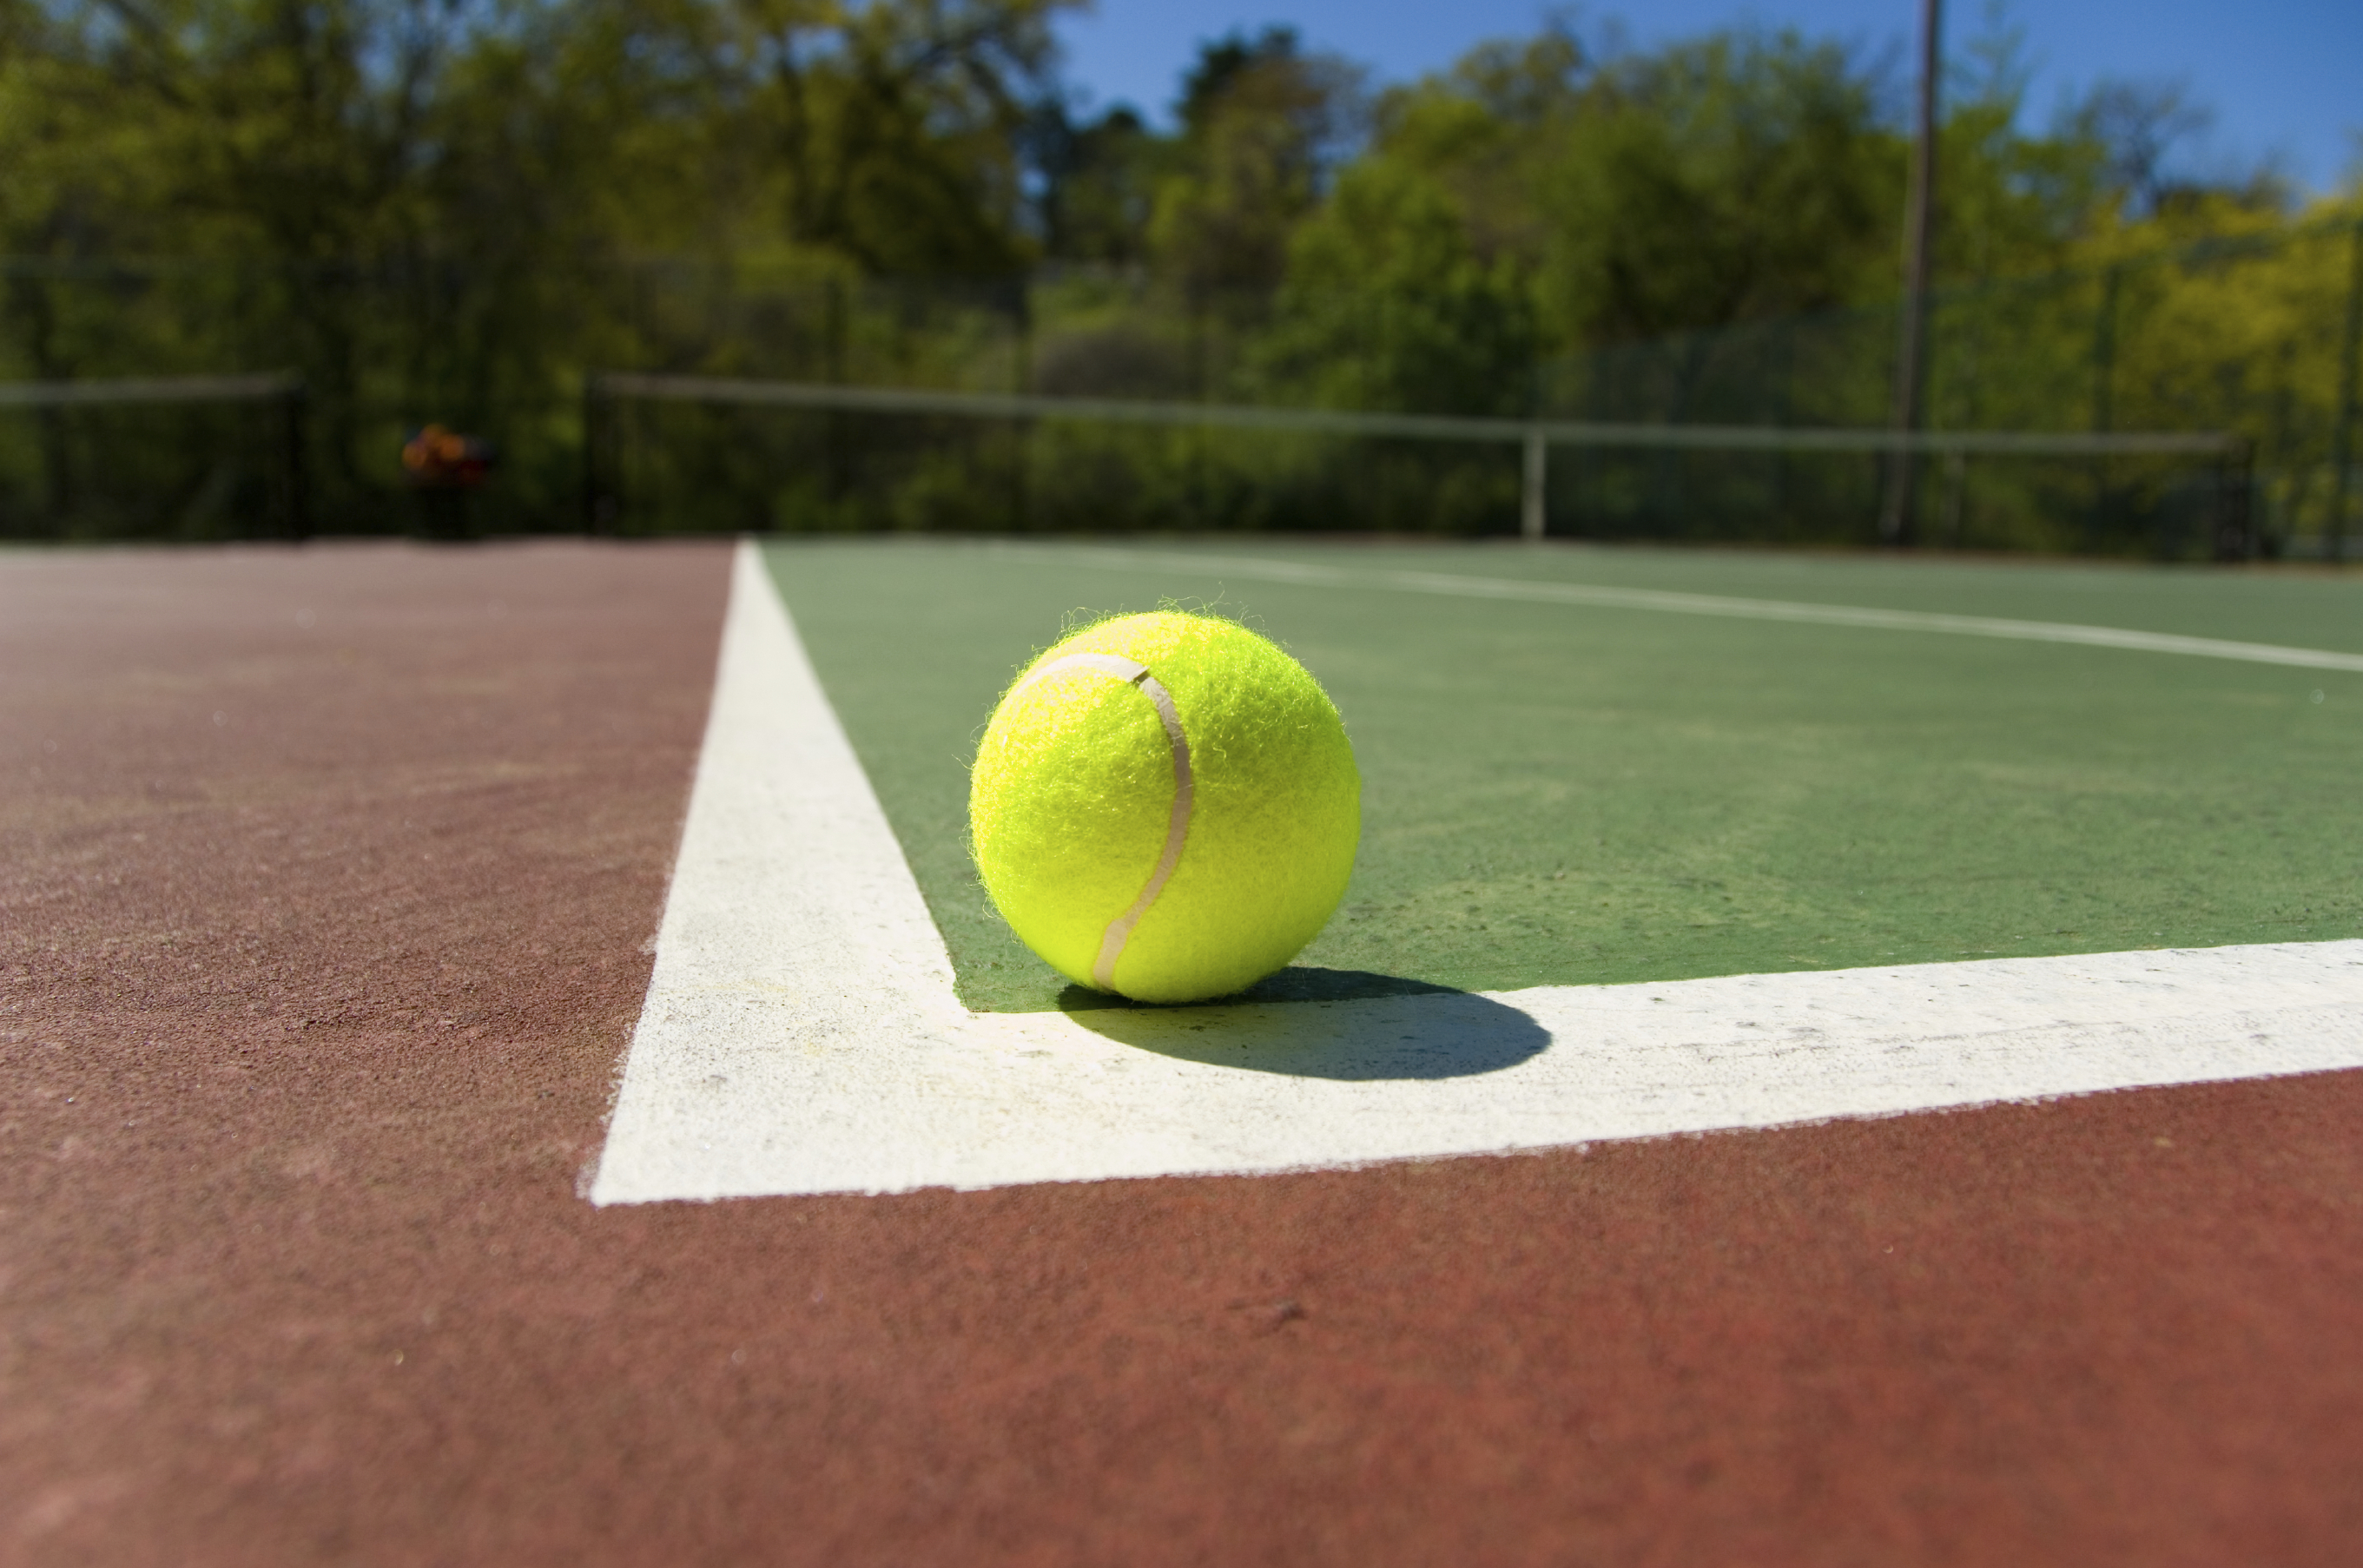tennis_ball: (949, 611, 1369, 1010)
